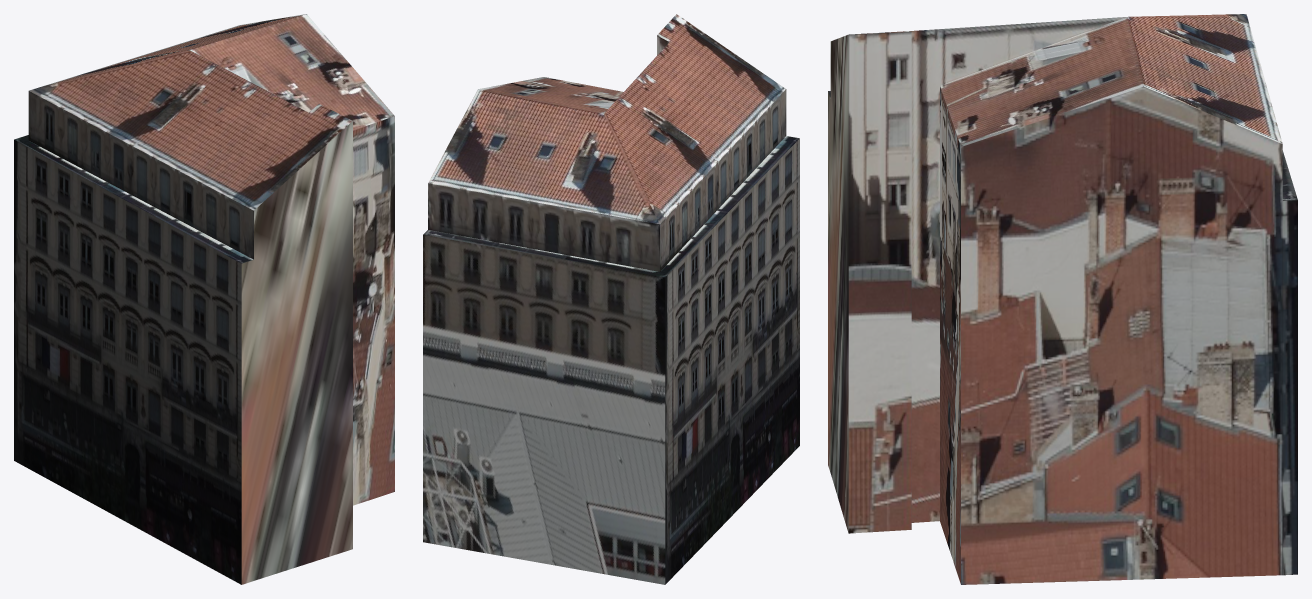
The picture shows the model from 3 angles, left to right: view 1: azimuth 30°, elevation 25°; view 2: azimuth 150°, elevation 25°; view 3: azimuth 270°, elevation 25°; orthographic projection. The views are drawn at different scales.
Visible parts, largest first — view 1: Z_UP; view 2: Z_UP; view 3: Z_UP.
Part boxes in pixels (x1,y1,x2,y2): Z_UP: (14, 14, 394, 584); Z_UP: (423, 14, 799, 584); Z_UP: (828, 14, 1297, 584).
Bounding box in the file's own units: 17.79 × 28.67 × 24.47.
2 materials, 1 textured.
